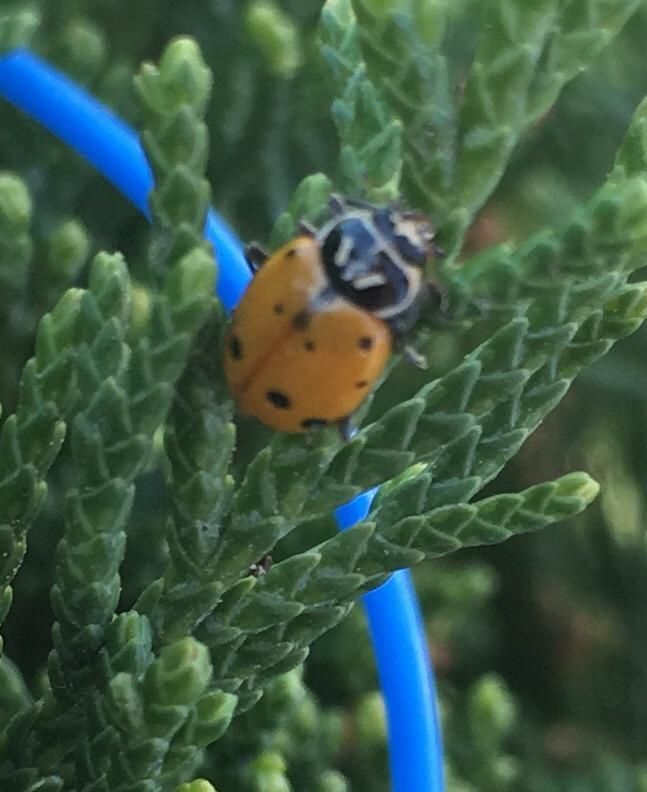ladybug: (215, 189, 451, 439)
